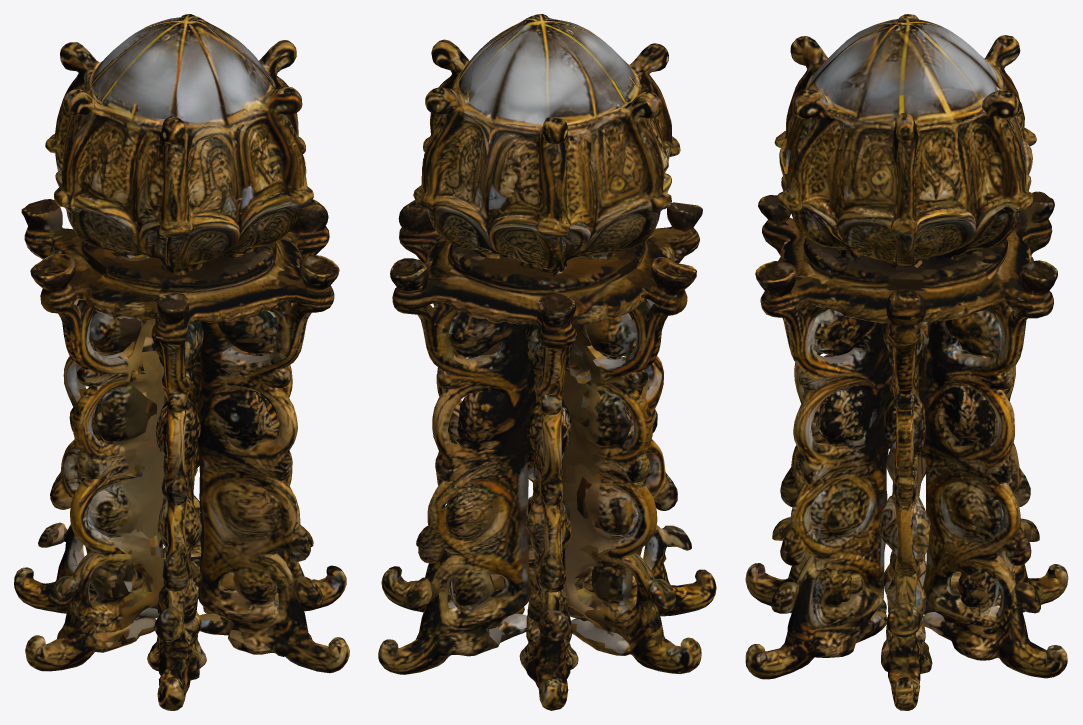
3 renders of one model, left to right at view 1: azimuth 30°, elevation 25°; view 2: azimuth 150°, elevation 25°; view 3: azimuth 270°, elevation 25°, orthographic.
Visible parts, largest first — view 1: textured_mesh; view 2: textured_mesh; view 3: textured_mesh.
Boxes of the visible parts, x1,y1,x2,y2 form: textured_mesh: (14,14,349,710); textured_mesh: (378,14,716,710); textured_mesh: (745,14,1068,710).
Size of the model in its own units: 1.07 by 1.99 by 0.937.
Materials: 1 (1 with a texture image).
